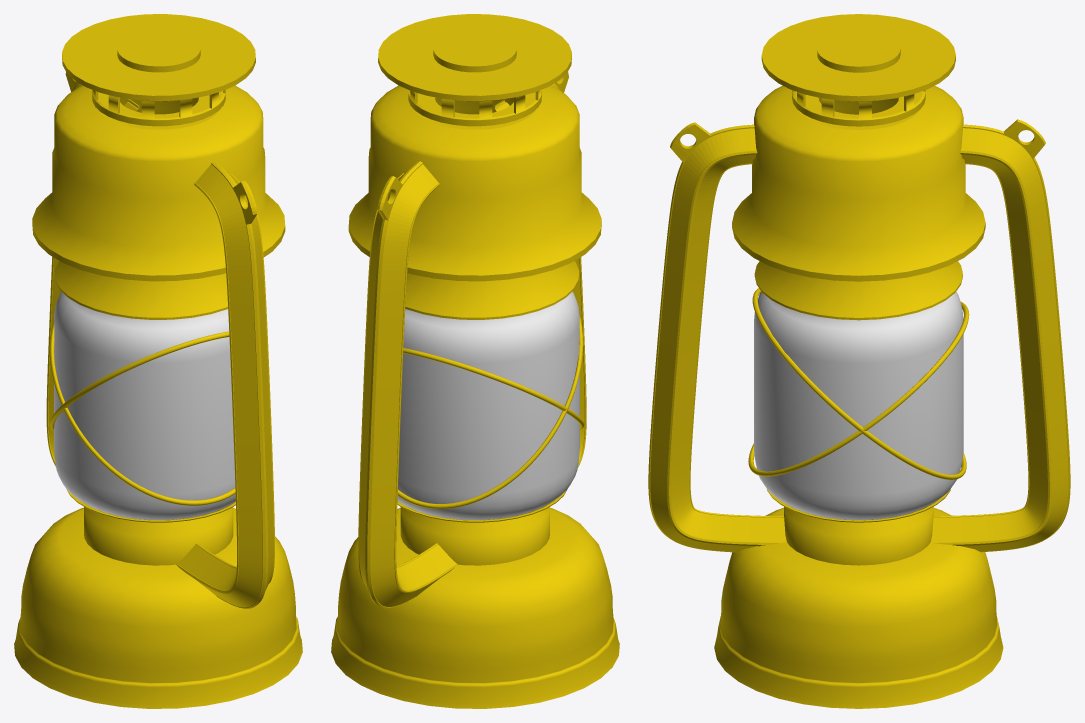
Rendered from lanterne gold.fbx.
3 renders of one model, left to right at view 1: azimuth 30°, elevation 25°; view 2: azimuth 150°, elevation 25°; view 3: azimuth 270°, elevation 25°, orthographic.
Parts seen in each view (by area): view 1: Cylinder.015; view 2: Cylinder.015; view 3: Cylinder.015.
Part boxes in pixels (box(x1,y1,x2,y2)): Cylinder.015: box(14, 14, 302, 708); Cylinder.015: box(331, 14, 619, 708); Cylinder.015: box(648, 14, 1070, 708).
Size of the model in its own units: 200 by 457 by 292.
